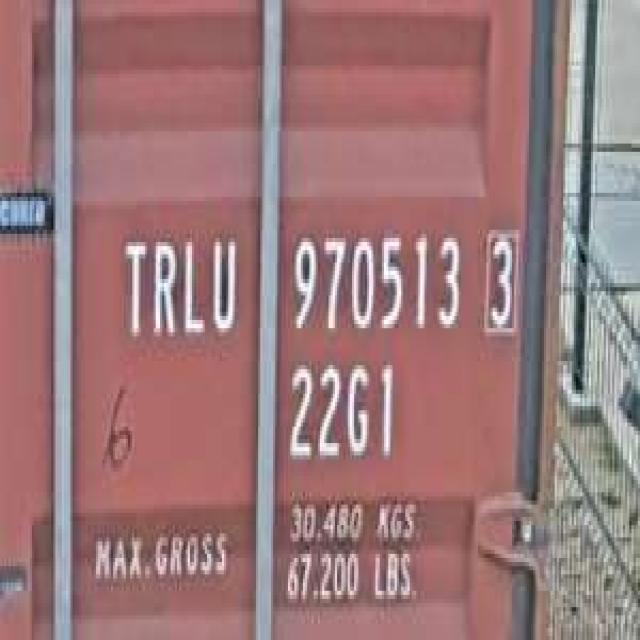dv: (478, 218, 520, 340)
owner: (117, 221, 241, 353)
serial: (284, 222, 465, 344)
size: (282, 353, 401, 476)
